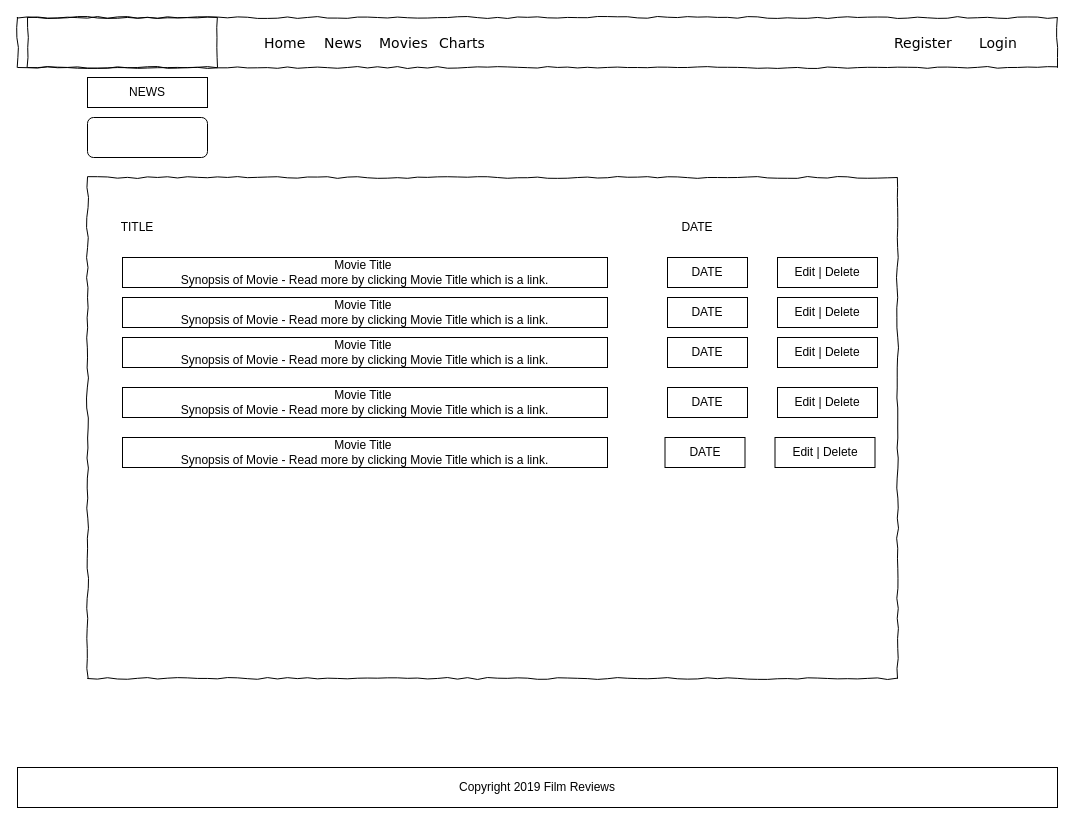
The diagram is 1075 pixels wide and 825 high, and some of its shapes have lost their labels. Each missing label, with the box of its shape:
Create New: (86, 116, 208, 158)
Film Review: (26, 16, 218, 68)
